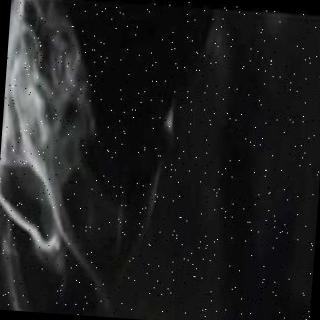smoke: (0, 0, 99, 183)
